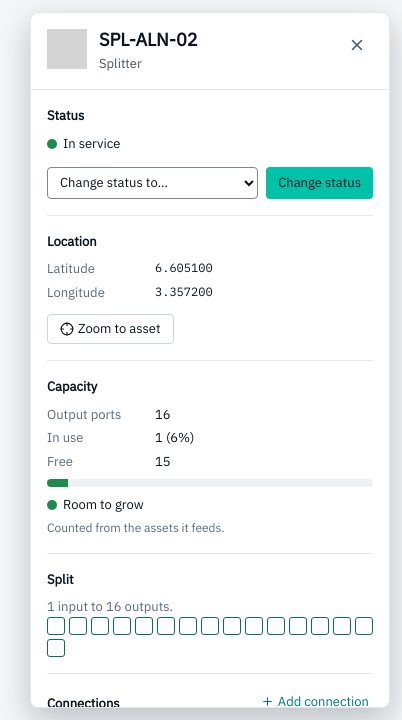
Test case: AssetInspector › offers only allowed transitions and explains a refusal
Select "Faulty" in the dropdown named "New status" at [153, 182], box [47, 166, 258, 198]
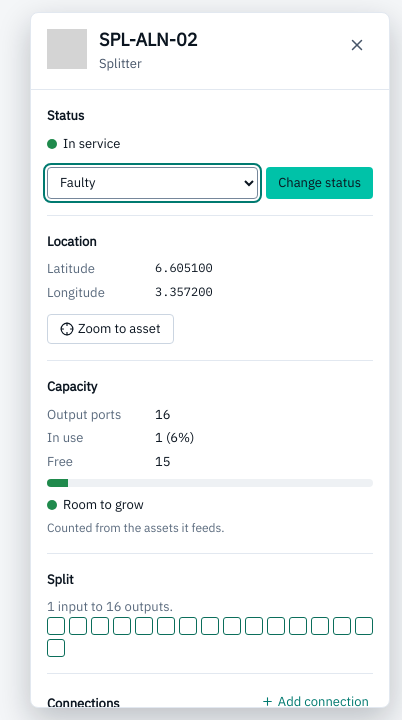
Click the button "Change status" at [320, 182], box [266, 166, 373, 198]
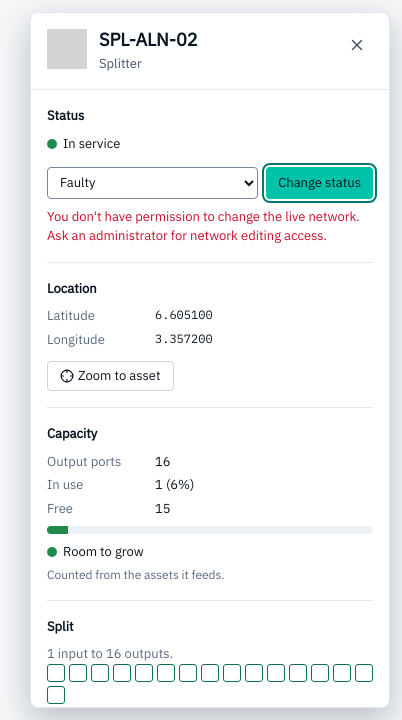
Expected: the message shows "don't have permission", [47, 208, 360, 244]
